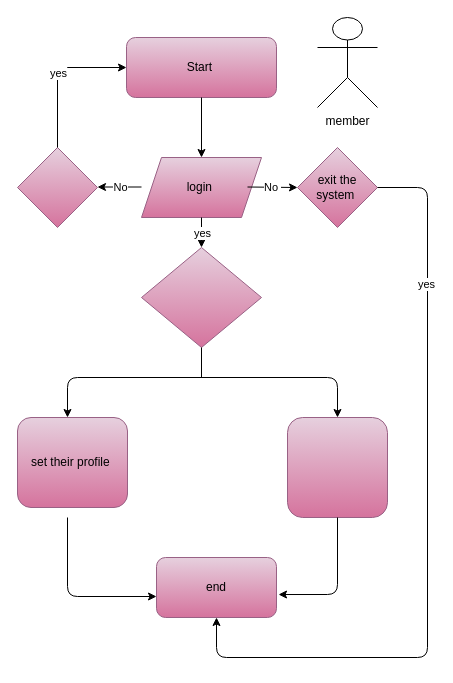
Some shapes in this 453 by 683 pixel diagram are drawn without their labels. Each missing label, with the box of its shape:
home page opens: (140, 246, 262, 348)
try again: (16, 146, 98, 228)
view list of trainers: (286, 416, 388, 518)
